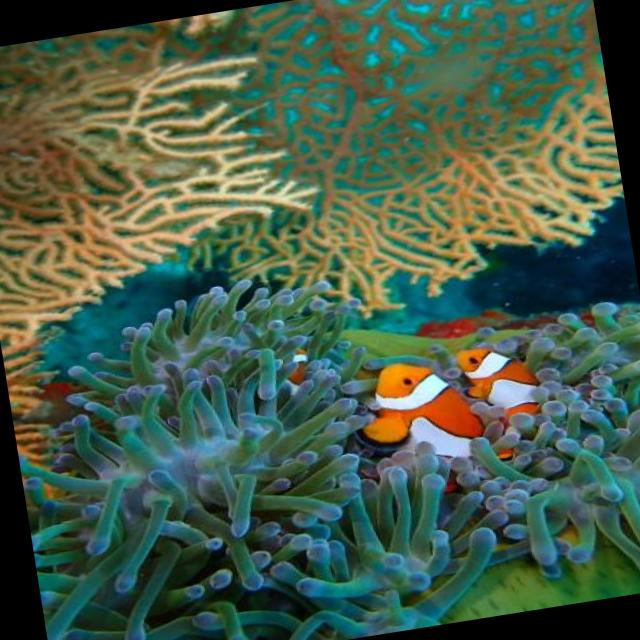ClownFish: (352, 354, 491, 504), (448, 338, 556, 467)
